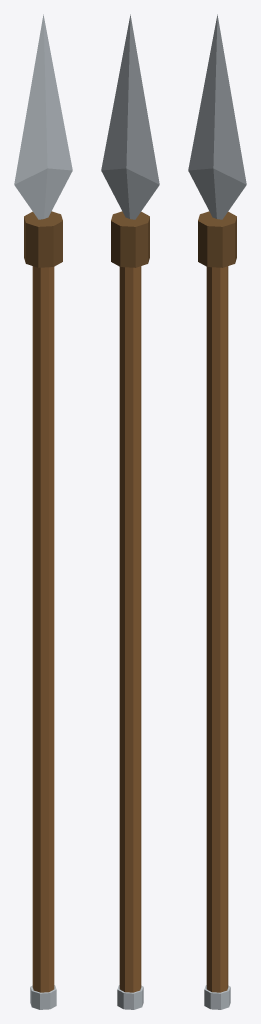
Rendered from pike.glb.
3 views of the same model, side by side, from view 1: azimuth 30°, elevation 25°; view 2: azimuth 150°, elevation 25°; view 3: azimuth 330°, elevation 25° (orthographic).
Visible parts, largest first — view 1: Pike; view 2: Pike; view 3: Pike.
Boxes of the visible parts, x1,y1,x2,y2 form: Pike: (14,14,72,1009); Pike: (101,14,159,1009); Pike: (188,14,246,1009).
Bounding box in the file's own units: 0.15 × 2.42 × 0.09.
